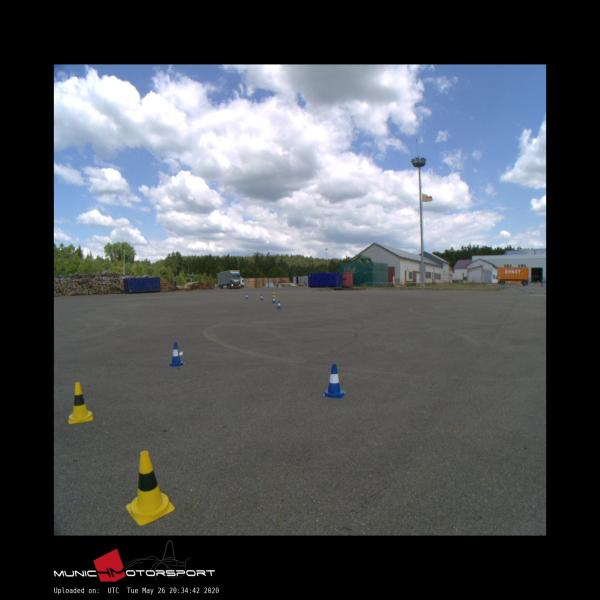blue_cone: (323, 364, 345, 398), (168, 342, 185, 366), (276, 301, 282, 309), (272, 296, 276, 303), (260, 294, 264, 300), (245, 294, 248, 299)
yellow_cone: (126, 451, 174, 525), (68, 381, 92, 423), (272, 292, 276, 297)
